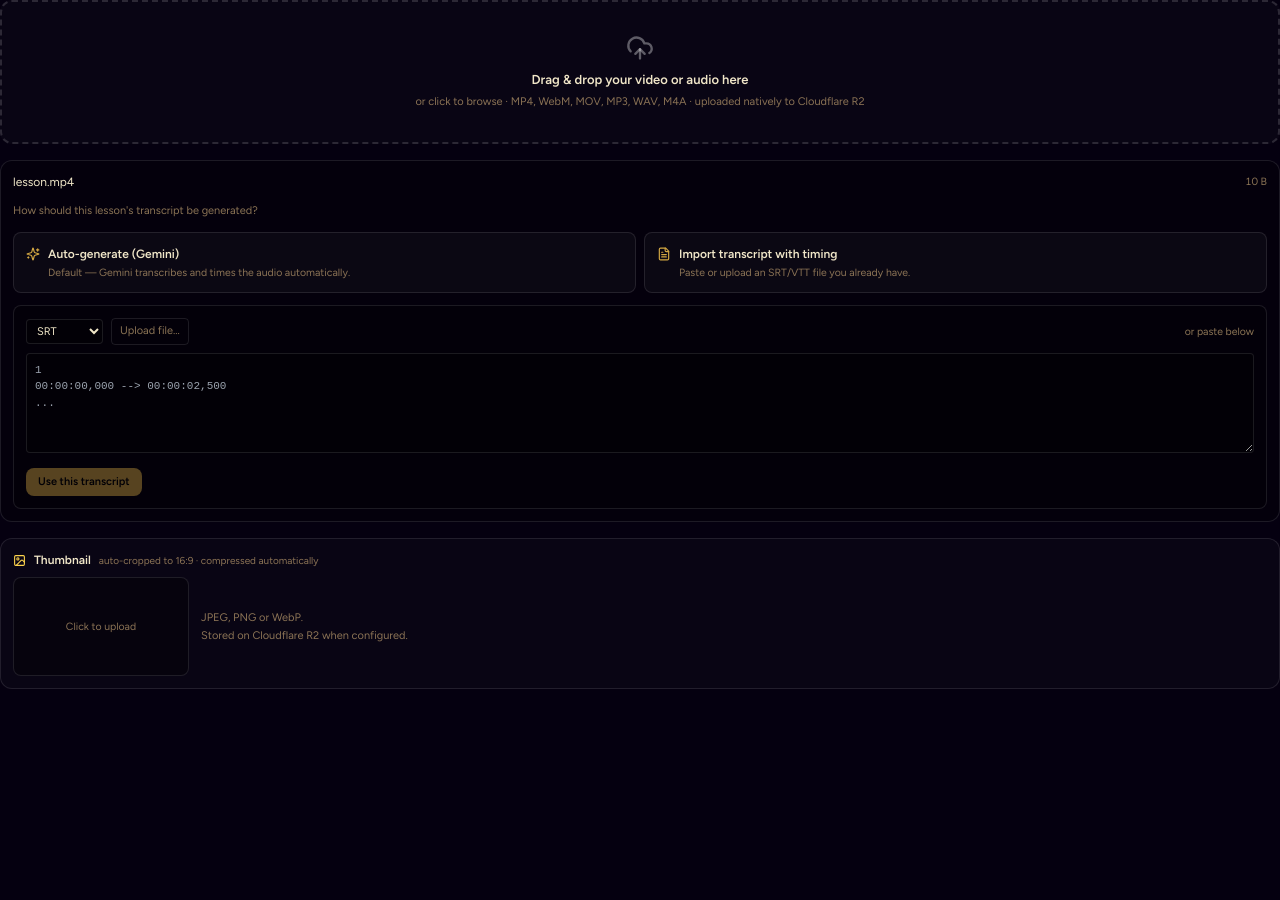
Test case: a backend parse failure shows a clear inline error and never fires onPipelineStarted
This screenshot has width=1280, height=900.
Earlier steps of the test are not shown.
Expected: the element with test id "transcript-choice" is shown, top-left (13, 199), bottom-right (1267, 509)
In the text box with test id "transcript-import-textarea": (640, 403) top-left (26, 353), bottom-right (1254, 453), type "not a real transcript"
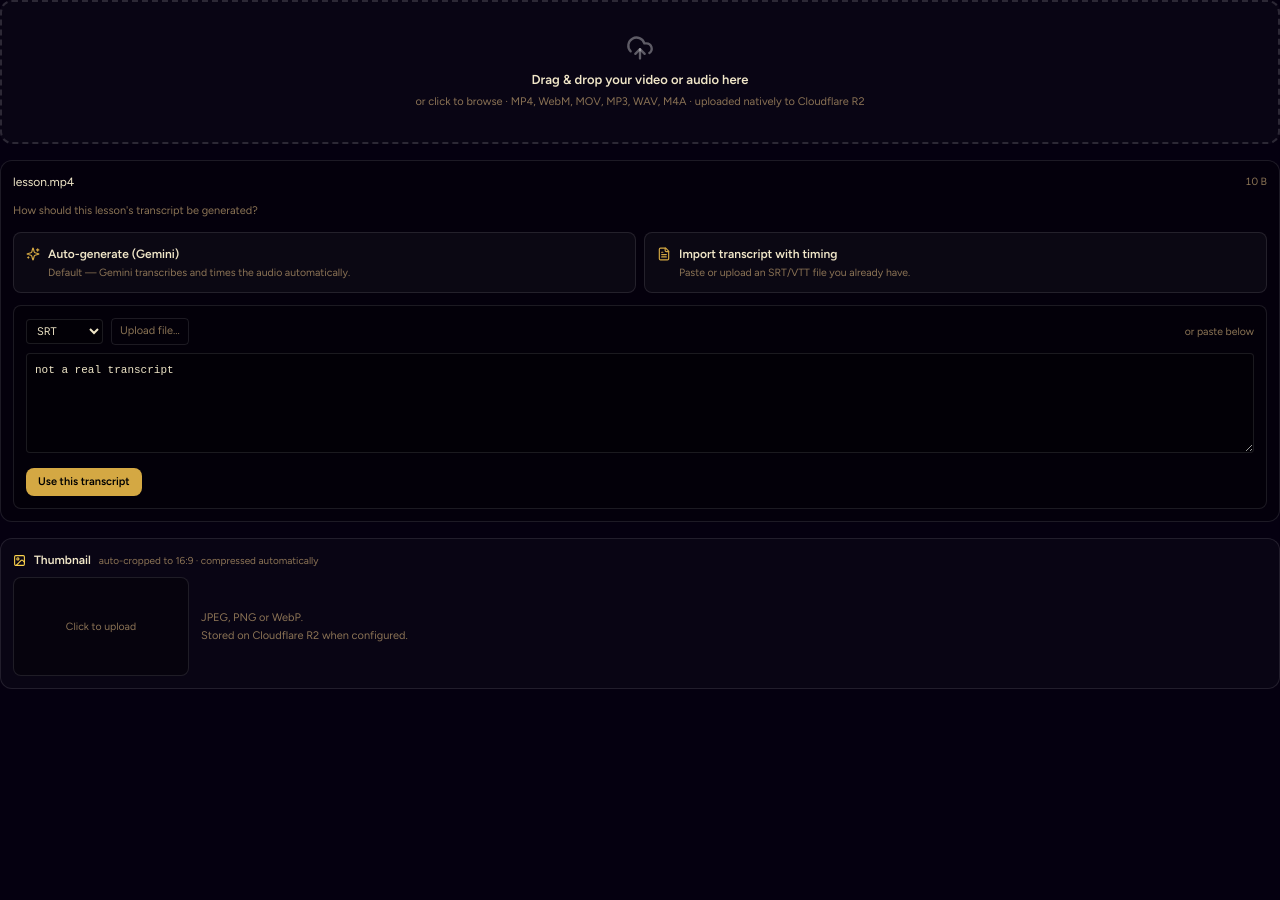
Click the button with test id "transcript-import-submit": (84, 482) top-left (26, 468), bottom-right (142, 496)
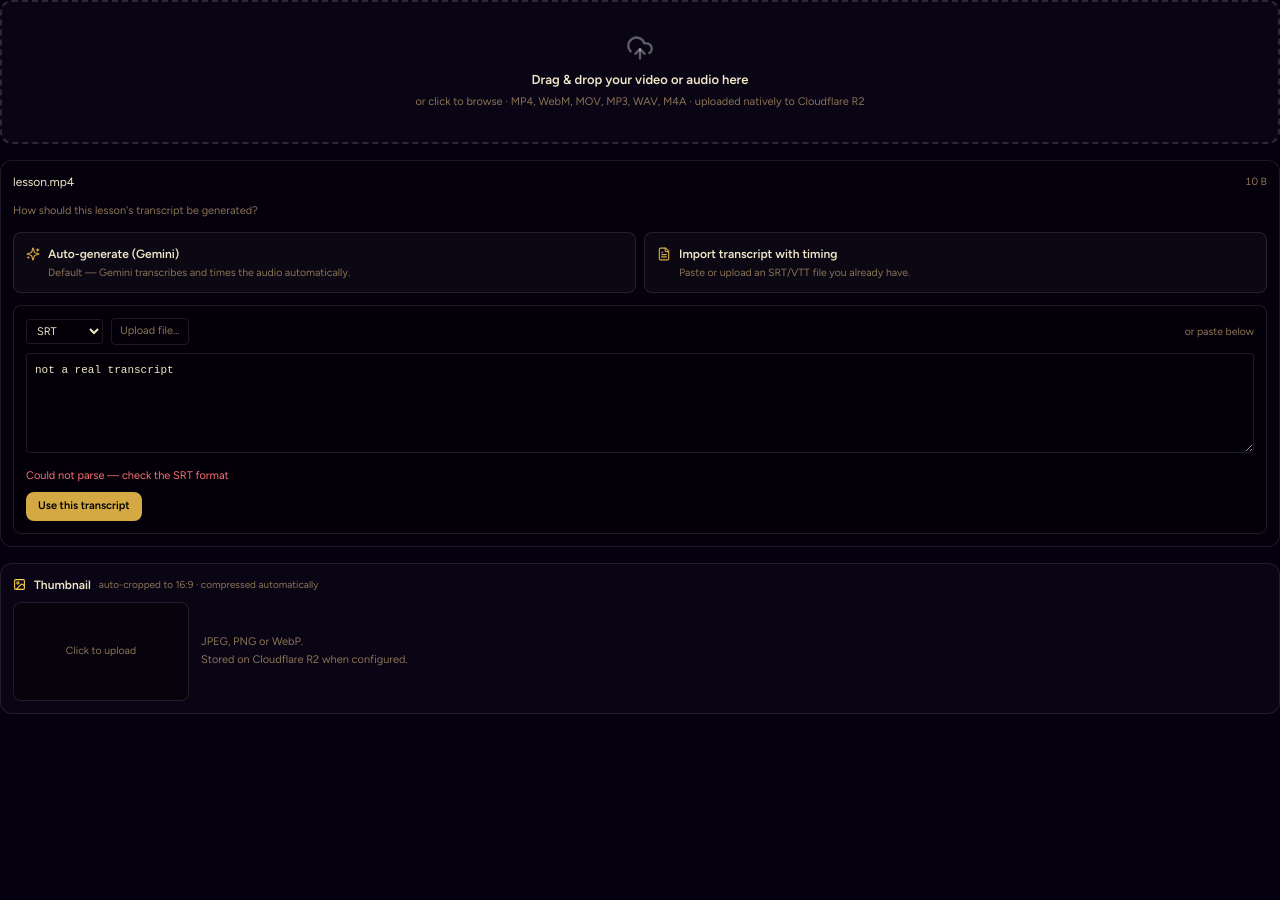
Expected: the button with test id "transcript-choice-auto" is shown, top-left (13, 232), bottom-right (636, 293)
Expected: the text with test id "transcript-import-error" shows "Could not parse", top-left (26, 469), bottom-right (229, 482)
